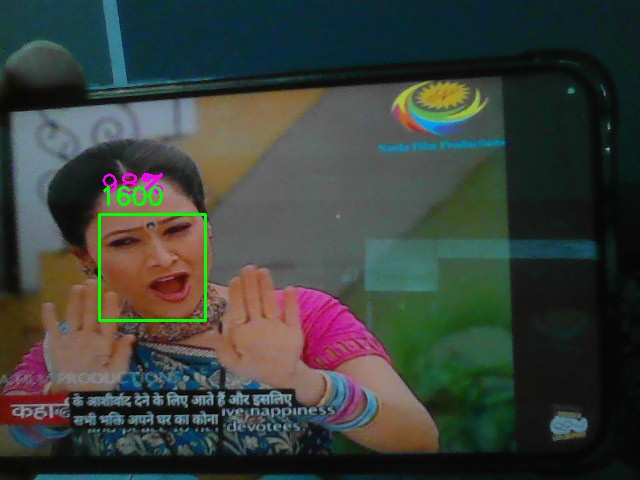fake: (99, 214, 206, 321)
